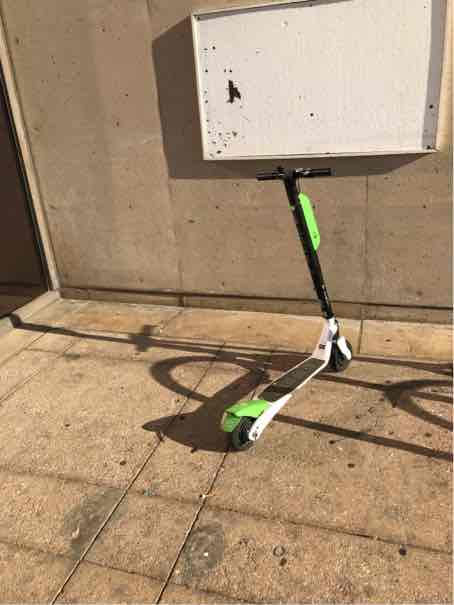scooter: (204, 160, 371, 456)
